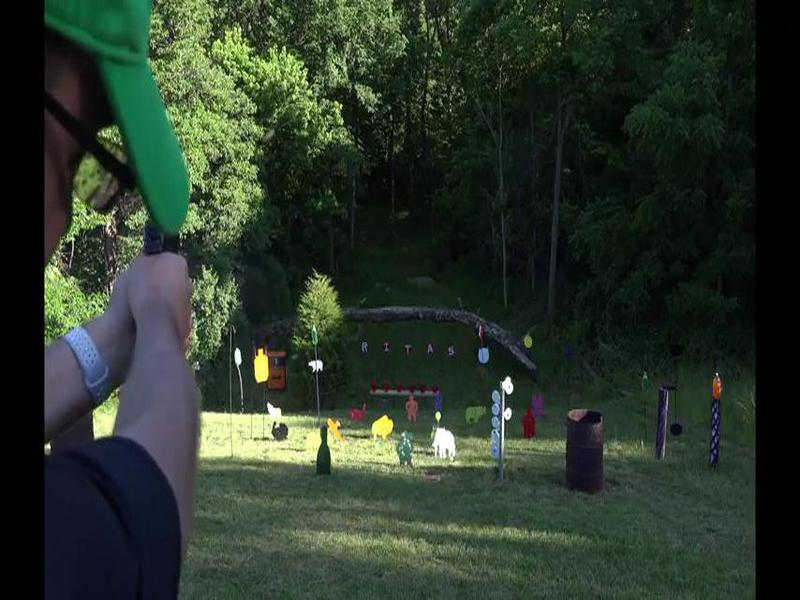Pistola: (123, 211, 207, 290)
